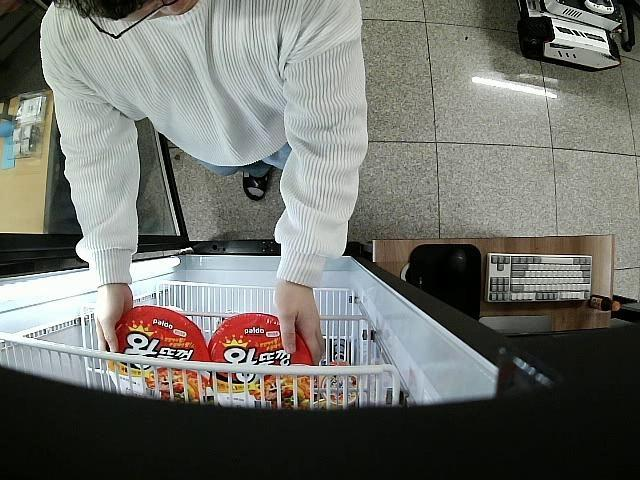10_wangTtukkeong: (102, 305, 209, 406), (209, 310, 314, 412)
